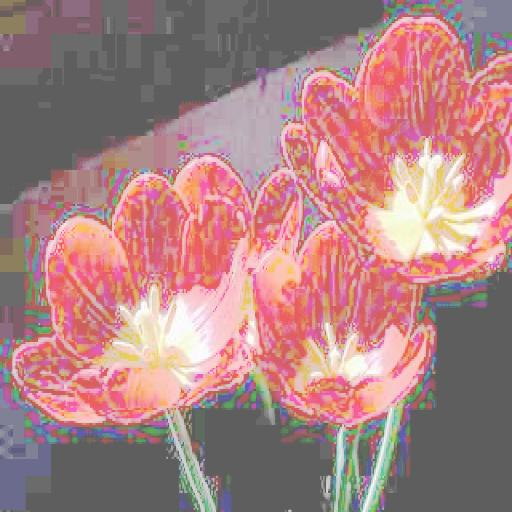tulip: (12, 144, 302, 442), (244, 219, 438, 423)
